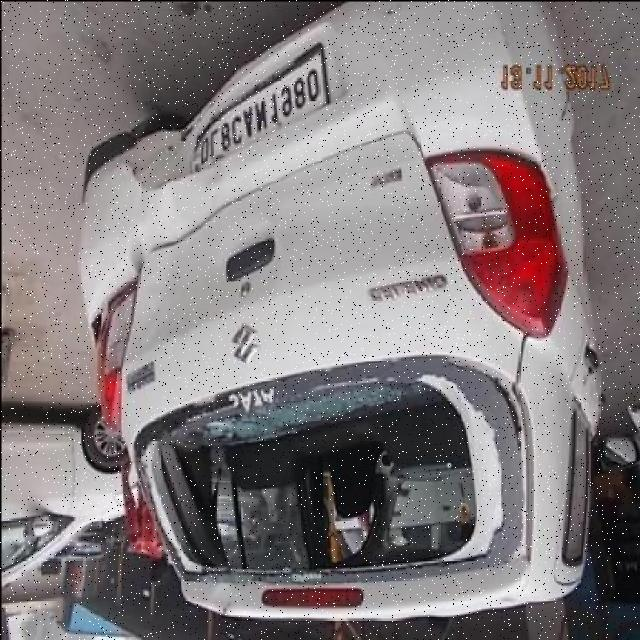damage: (138, 376, 515, 577), (124, 125, 222, 213), (127, 198, 233, 272), (92, 269, 137, 348), (558, 85, 573, 119)
